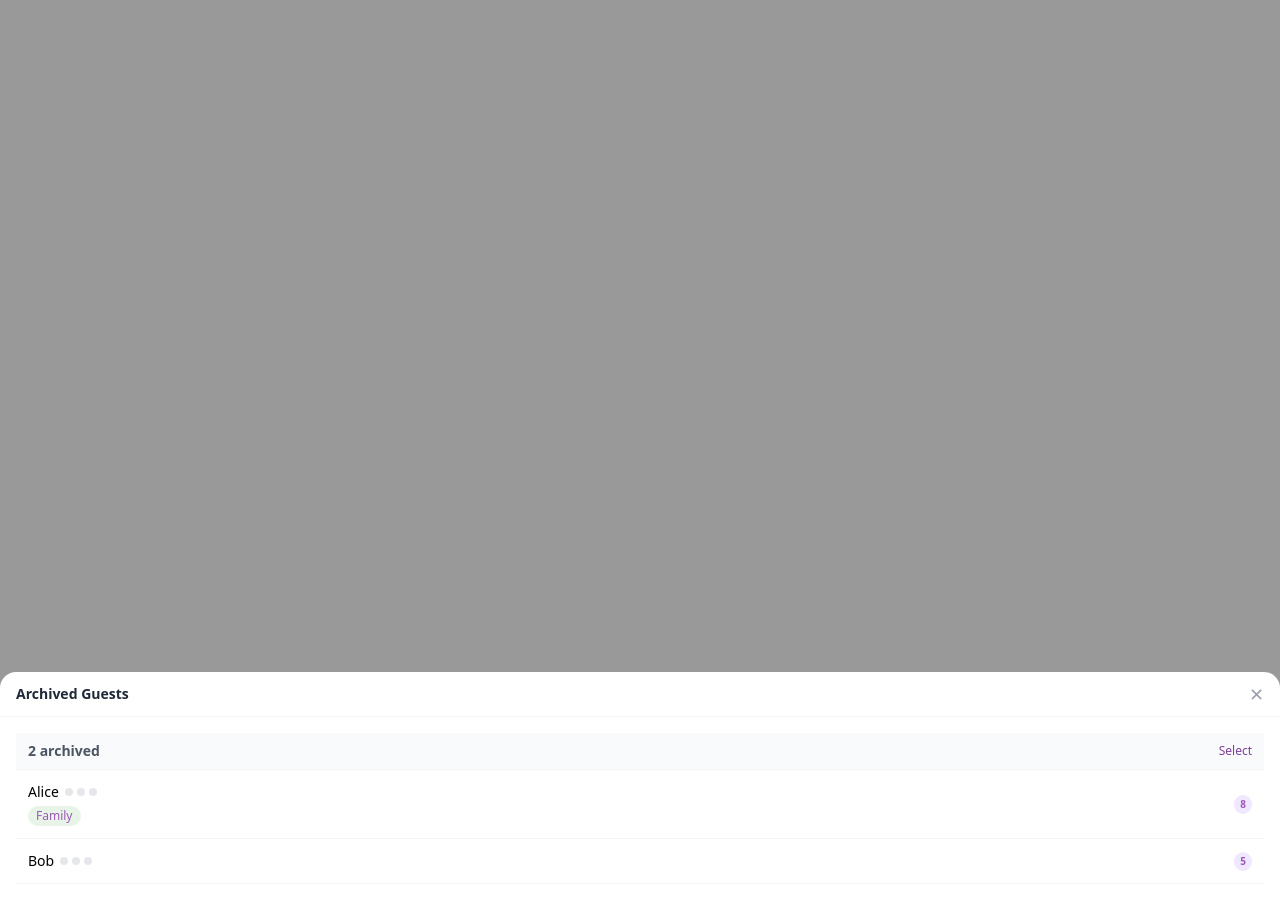
Test: ArchivedGuestSheet › shows unarchive action sheet on long-press of archived guest
The image size is (1280, 900).
Press the mouse on the element with test id "guest-row" showing "Alice Family 8" at point(640, 804), box [16,770,1264,839]
Wait 500 ms
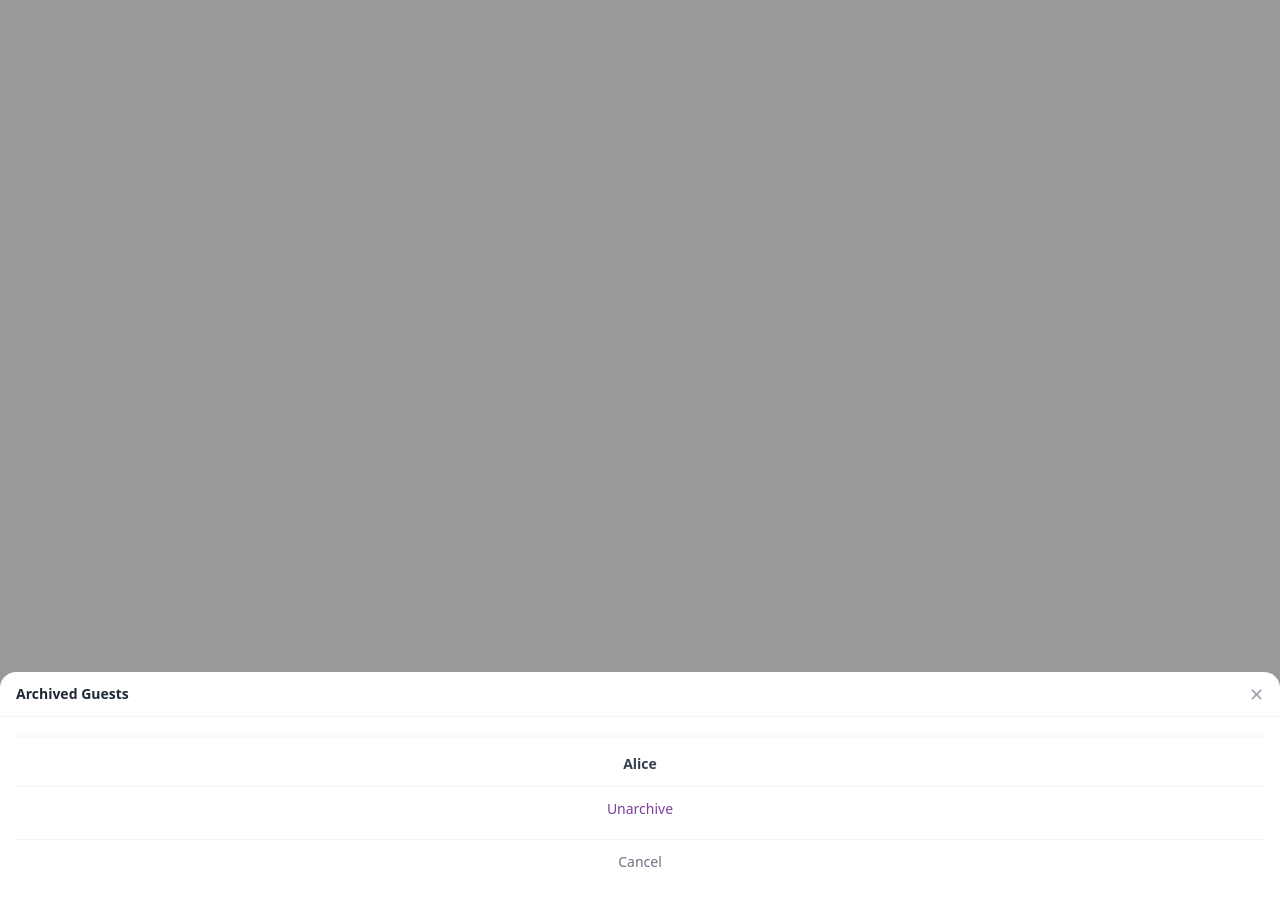
Check: the button "Unarchive" is shown, box [16,786,1264,831]
